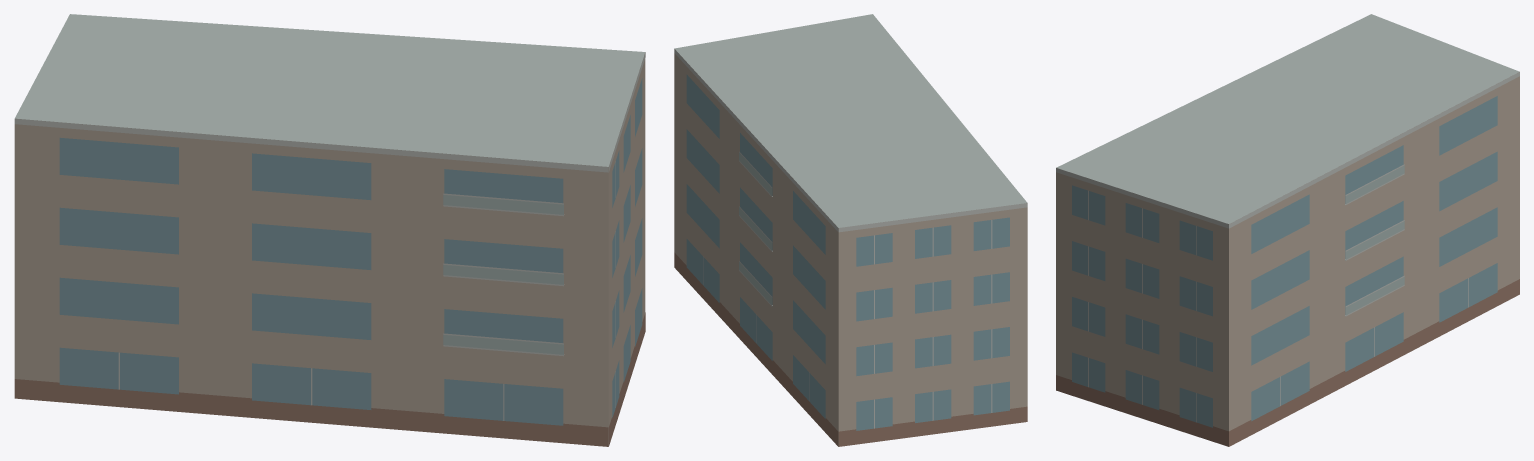
Rendered from residential-eb14a405-527f-47c2-b7ff-e0e8a5d9cadf.glb.
The picture shows the model from 3 angles, left to right: view 1: azimuth 30°, elevation 25°; view 2: azimuth 150°, elevation 25°; view 3: azimuth 270°, elevation 25°; orthographic projection. The views are drawn at different scales.
Parts seen in each view (by area): view 1: residential-eb14a405-527f-47c2-b7ff-e0e8a5d9cadf.tmp; view 2: residential-eb14a405-527f-47c2-b7ff-e0e8a5d9cadf.tmp; view 3: residential-eb14a405-527f-47c2-b7ff-e0e8a5d9cadf.tmp.
Part boxes in pixels (box(x1,y1,x2,y2)): residential-eb14a405-527f-47c2-b7ff-e0e8a5d9cadf.tmp: box(14, 14, 645, 446); residential-eb14a405-527f-47c2-b7ff-e0e8a5d9cadf.tmp: box(674, 14, 1027, 446); residential-eb14a405-527f-47c2-b7ff-e0e8a5d9cadf.tmp: box(1056, 14, 1519, 446).
Bounding box in the file's own units: 24.7 × 12.2 × 23.03.
